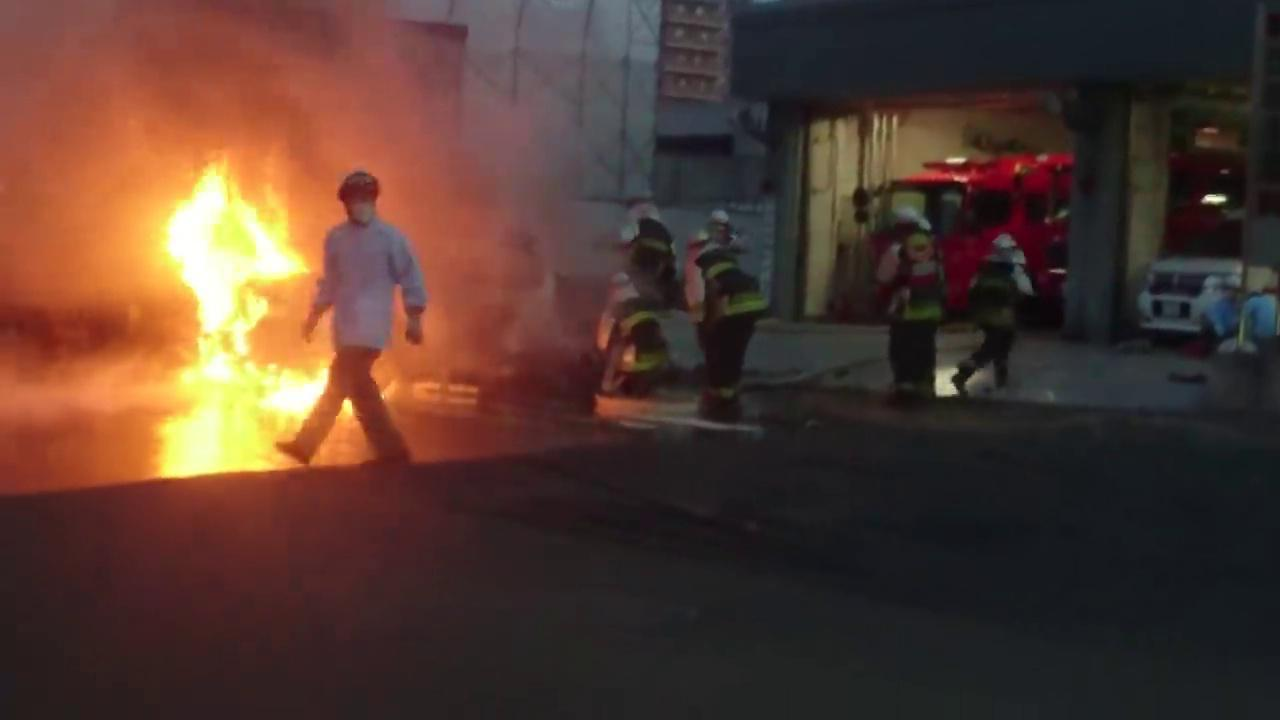Fire: (147, 182, 323, 417)
